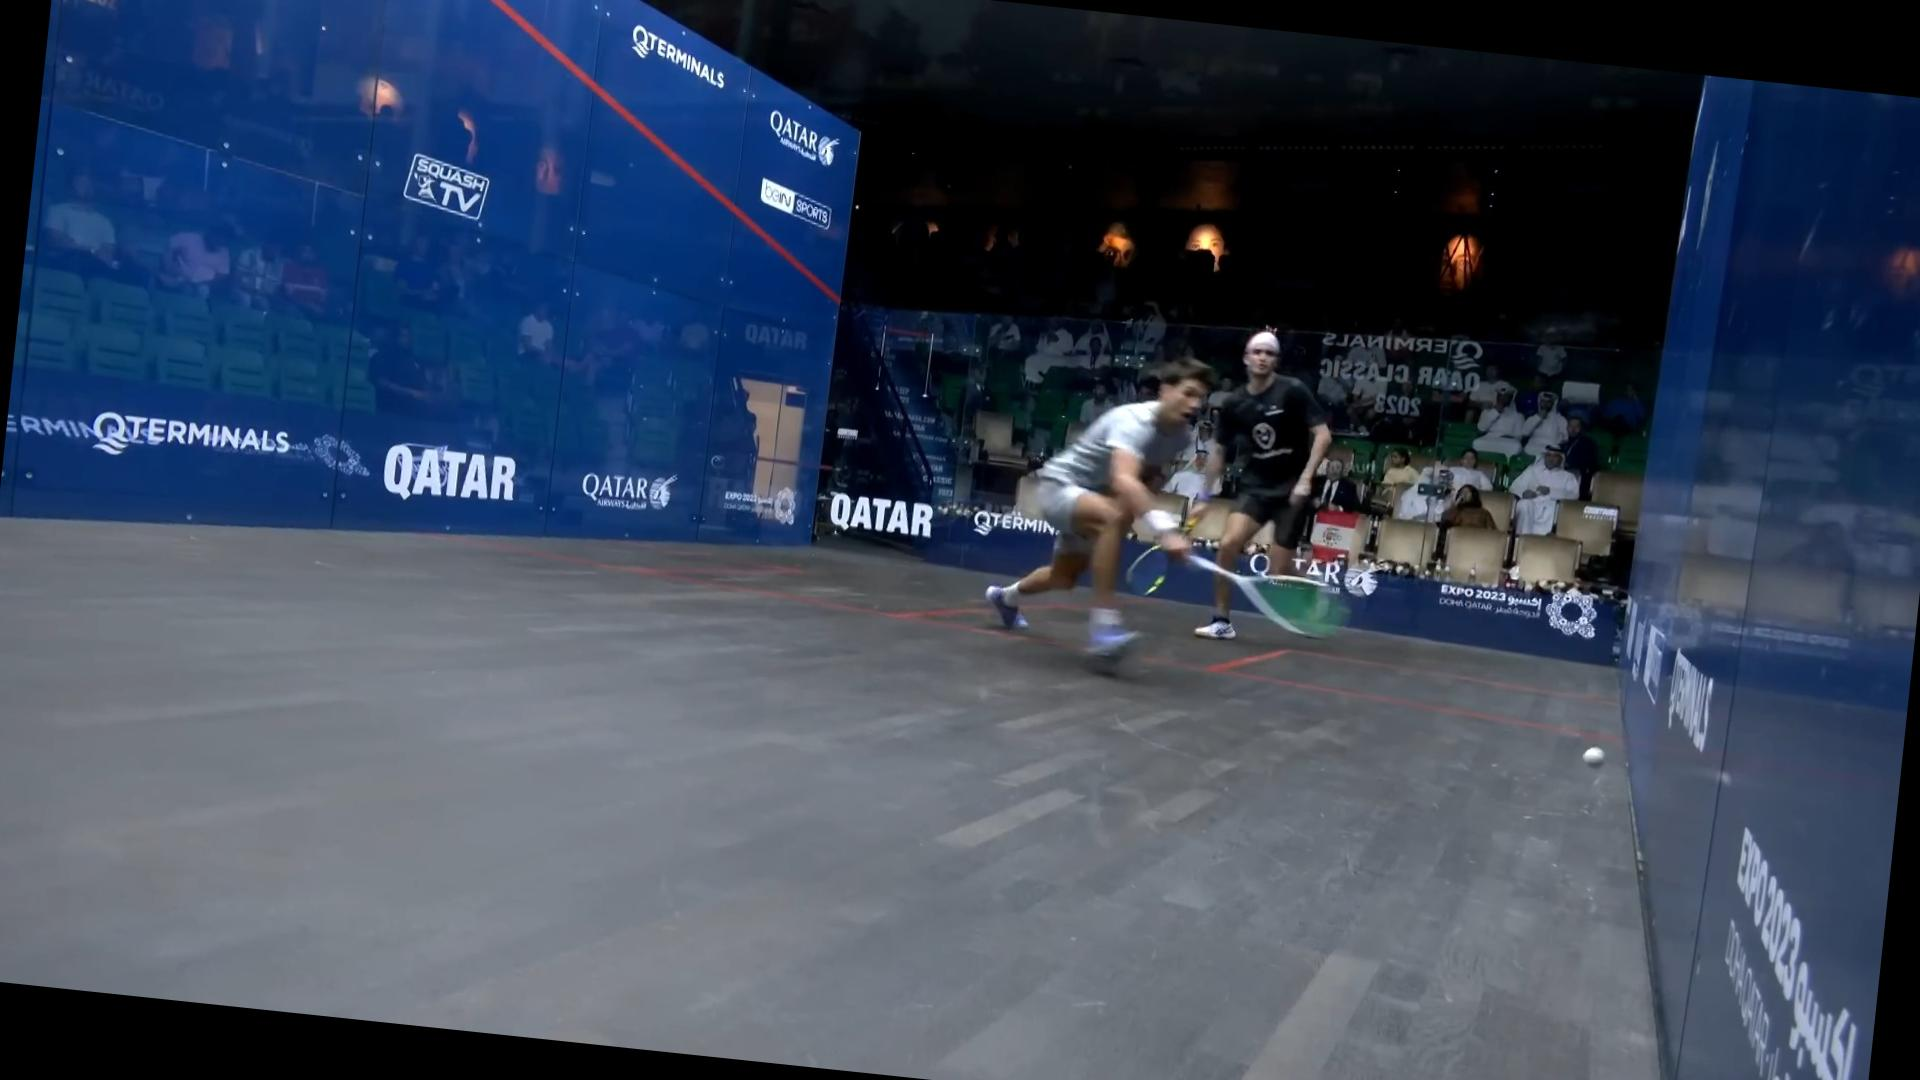Racket: (1183, 554, 1356, 650)
